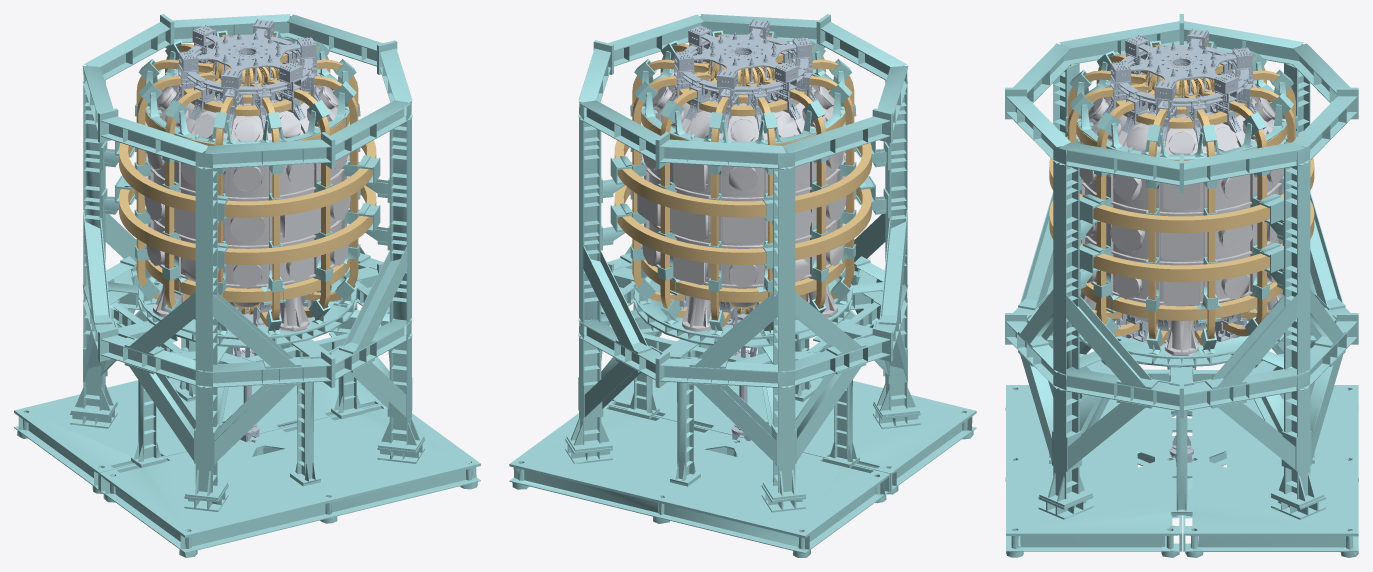
Rendered from exl50u-interactive.glb.
The picture shows the model from 3 angles, left to right: view 1: azimuth 30°, elevation 25°; view 2: azimuth 150°, elevation 25°; view 3: azimuth 270°, elevation 25°; orthographic projection. The views are drawn at different scales.
Parts seen in each view (by area): view 1: exl_coil_support, exl_coils, exl_vacuum_vessel, exl_torsional_support; view 2: exl_coil_support, exl_coils, exl_vacuum_vessel, exl_torsional_support; view 3: exl_coil_support, exl_coils, exl_vacuum_vessel, exl_torsional_support.
Boxes of the visible parts, x1,y1,x2,y2 form: exl_coil_support: (14, 14, 480, 557); exl_coils: (119, 34, 376, 326); exl_vacuum_vessel: (144, 73, 350, 332); exl_torsional_support: (171, 19, 324, 442); exl_coil_support: (509, 14, 976, 557); exl_coils: (614, 34, 871, 326); exl_vacuum_vessel: (637, 72, 846, 331); exl_torsional_support: (666, 19, 819, 440); exl_coil_support: (1005, 14, 1358, 557); exl_coils: (1049, 44, 1314, 345); exl_vacuum_vessel: (1076, 84, 1287, 355); exl_torsional_support: (1102, 28, 1260, 462).
Bounding box in the file's own units: 5.83 × 7.79 × 5.84.
